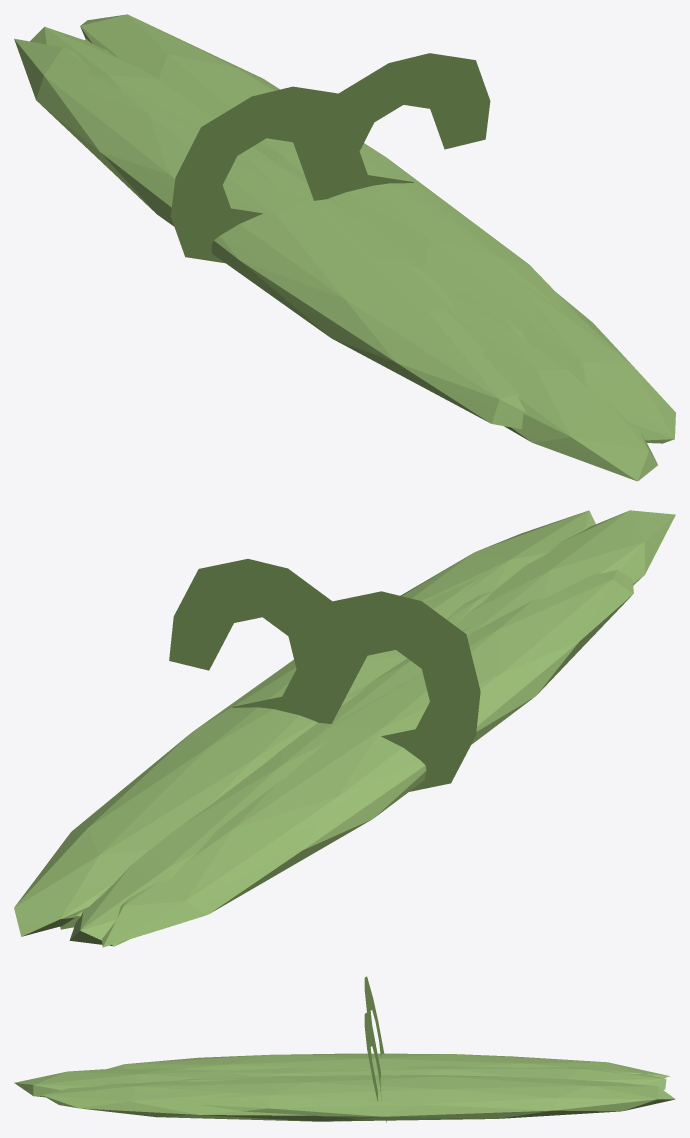
The model's file is selaginella-ciliaris.glb.
The picture shows the model from 3 angles, top to bottom: view 1: azimuth 30°, elevation 25°; view 2: azimuth 150°, elevation 25°; view 3: azimuth 270°, elevation 25°; orthographic projection. The views are drawn at different scales.
Visible parts, largest first — view 1: frond3, frond0, fiddle1, frond2, fiddle-1, frond4, frond1, frond6; view 2: frond3, frond0, fiddle1, fiddle-1, frond4, frond2, frond1, frond6; view 3: frond0, frond3, frond1, frond4, frond2, fiddle-1, fiddle1, frond6.
Boxes of the visible parts, box(x1,y1,x2,y2) form: frond3: box(14, 38, 525, 429); frond0: box(80, 14, 577, 341); fiddle1: box(307, 53, 490, 200); frond2: box(441, 287, 657, 481); fiddle-1: box(170, 86, 345, 262); frond4: box(30, 26, 456, 311); frond1: box(507, 280, 675, 443); frond6: box(85, 38, 525, 340); frond3: box(102, 569, 633, 947); frond0: box(14, 577, 480, 936); fiddle1: box(169, 559, 346, 723); fiddle-1: box(311, 591, 480, 791); frond4: box(69, 625, 475, 946); frond2: box(455, 510, 675, 632); frond1: box(400, 510, 595, 605); frond6: box(60, 591, 493, 929); frond0: box(166, 1075, 675, 1121); frond3: box(108, 1053, 669, 1077); frond1: box(42, 1080, 364, 1121); frond4: box(223, 1066, 666, 1089); frond2: box(14, 1068, 252, 1097); fiddle-1: box(364, 976, 384, 1057); fiddle1: box(364, 1012, 386, 1122); frond6: box(176, 1075, 624, 1083).
Size of the model in its own units: 0.184 by 0.1057 by 0.6184.
